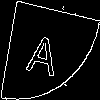A: (25, 24, 64, 77)
